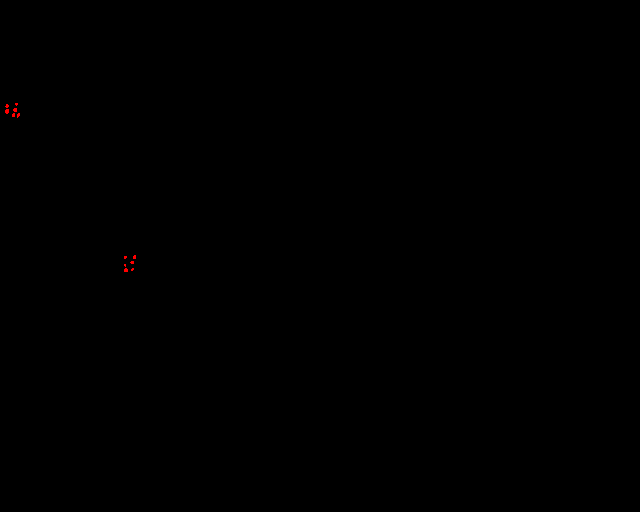Target: (5, 109, 9, 114), (5, 104, 9, 108), (13, 108, 17, 112), (124, 268, 128, 272), (17, 113, 20, 118), (12, 113, 15, 117), (133, 255, 136, 259), (130, 261, 134, 264), (15, 103, 18, 106), (124, 256, 127, 259), (131, 268, 134, 271), (124, 264, 126, 267)
